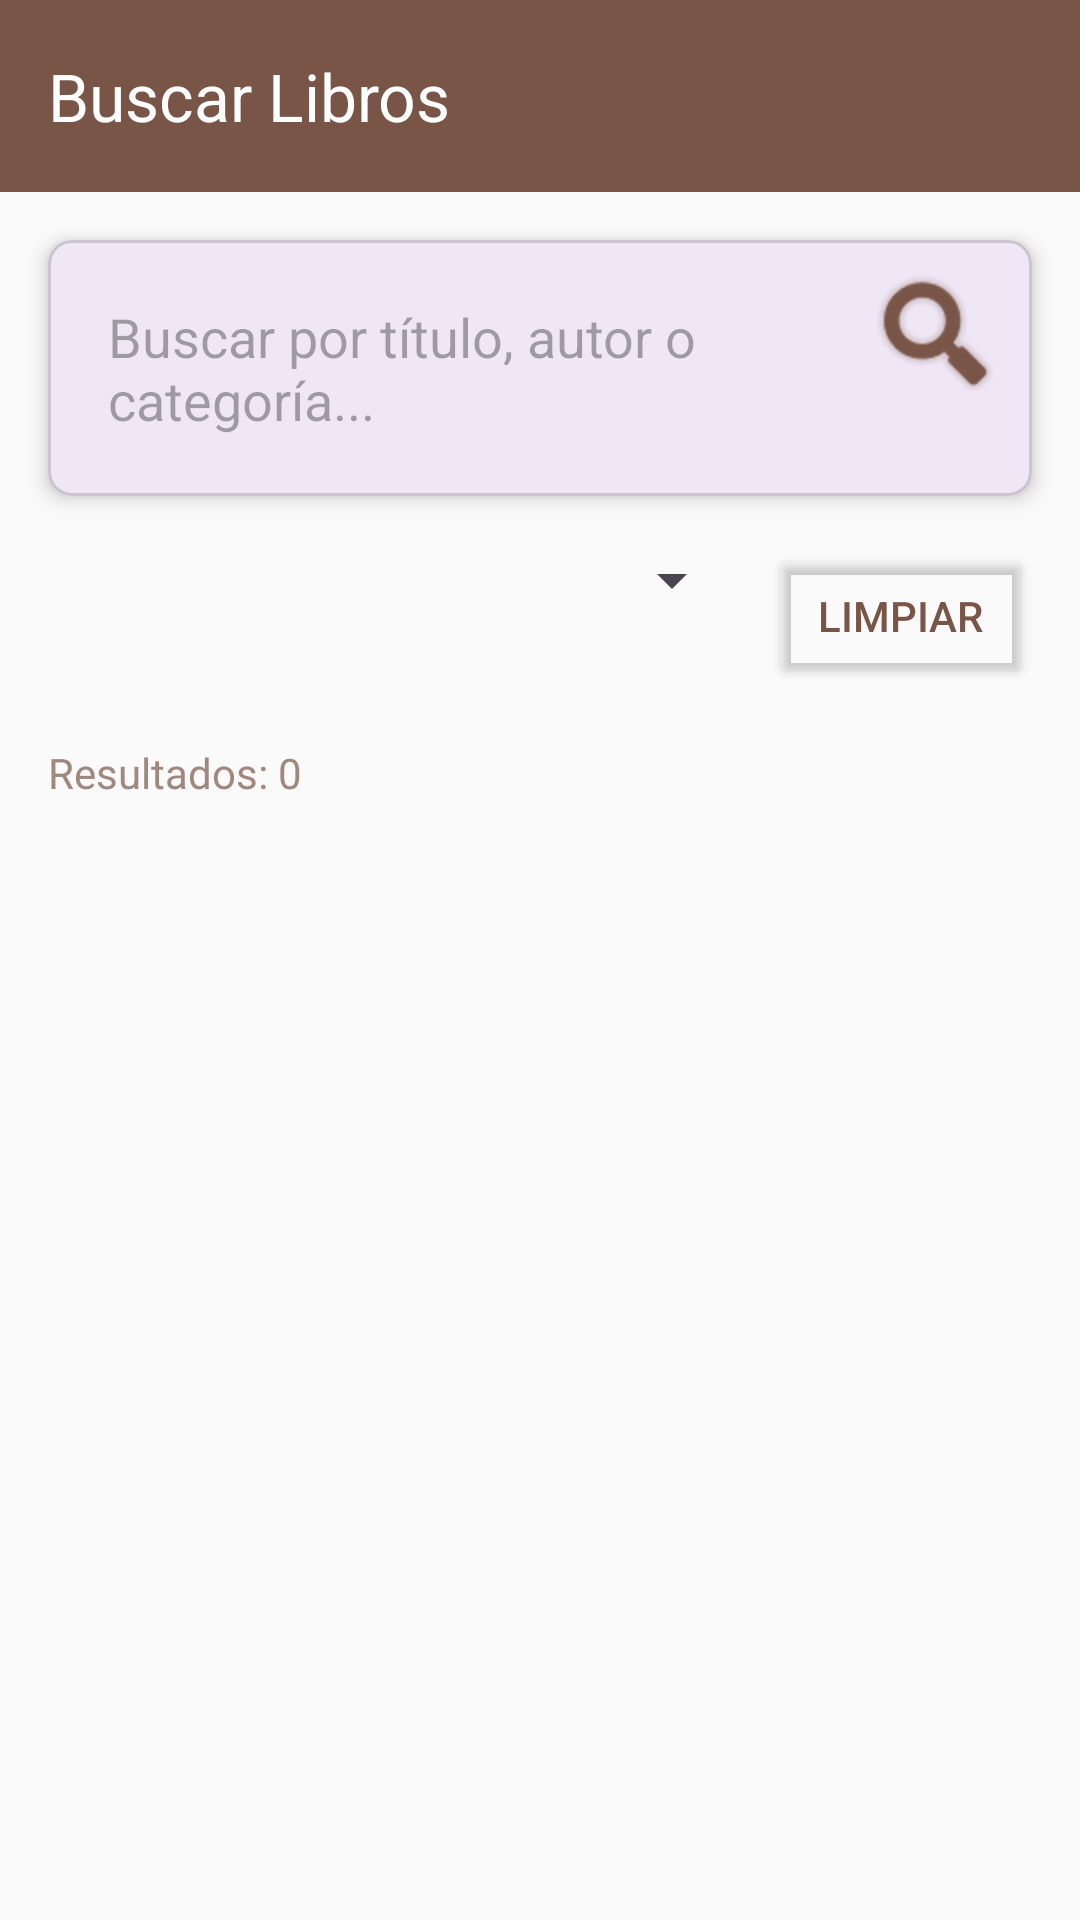

Icon bounding boxes for this 1080px×1920px phone screenshot, format BBox(x1, y1, x2, y2):
search category: BBox(882, 280, 989, 387)
